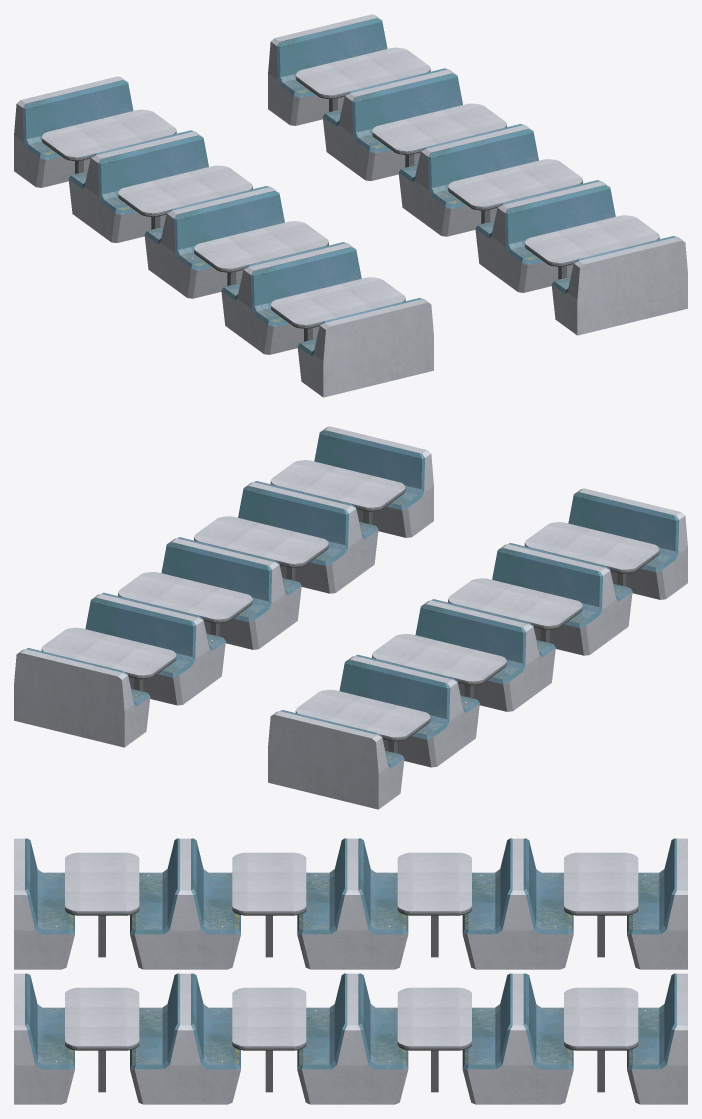
Rendered from cos_pizseats.obj.
3 renders of one model, top to bottom at view 1: azimuth 30°, elevation 25°; view 2: azimuth 150°, elevation 25°; view 3: azimuth 270°, elevation 25°, orthographic. The views are drawn at different scales.
Visible parts, largest first — view 1: cos_pizseats; view 2: cos_pizseats; view 3: cos_pizseats.
Part boxes in pixels (<box>): cos_pizseats: <box>14,14,687,397</box>; cos_pizseats: <box>14,426,687,809</box>; cos_pizseats: <box>14,838,687,1104</box>.
Size of the model in its own units: 4.95 by 0.9123 by 7.27.
4 materials, 4 textured.
